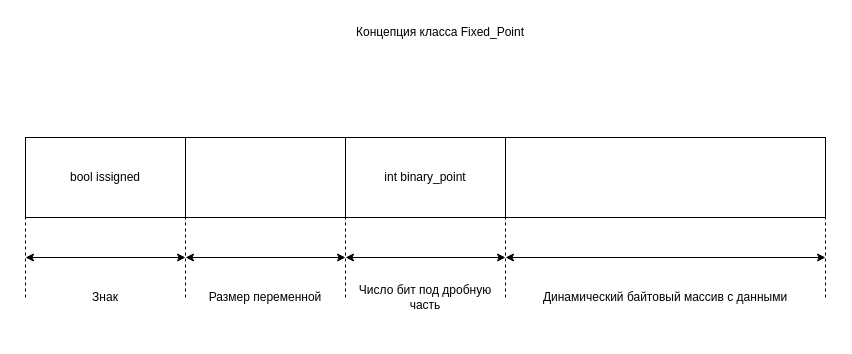
Image size: 852x354. Some labels were removed from this diagram. The box of each missing label's shape, as (x1, y1, x2, y2) in pixels:
int size: (184, 136, 346, 218)
uint8_t* data: (504, 136, 826, 218)
